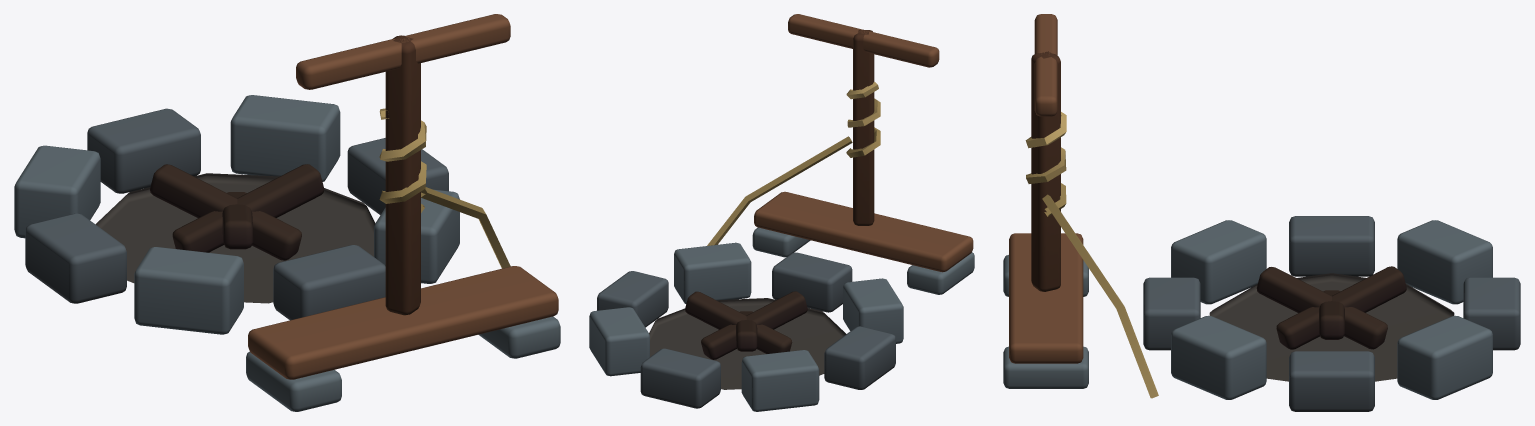
File: needfire.glb
The picture shows the model from 3 angles, left to right: view 1: azimuth 30°, elevation 25°; view 2: azimuth 150°, elevation 25°; view 3: azimuth 270°, elevation 25°; orthographic projection. The views are drawn at different scales.
Parts seen in each view (by area): view 1: needfire, needfire_trim; view 2: needfire, needfire_trim; view 3: needfire, needfire_trim.
Boxes of the visible parts, bbox=[...] form: needfire: bbox=[14, 14, 560, 411]; needfire_trim: bbox=[379, 108, 510, 268]; needfire: bbox=[589, 14, 974, 411]; needfire_trim: bbox=[707, 82, 880, 245]; needfire: bbox=[1003, 14, 1520, 411]; needfire_trim: bbox=[1025, 112, 1158, 398].
Bounding box in the file's own units: 1.32 × 1.09 × 1.81.
